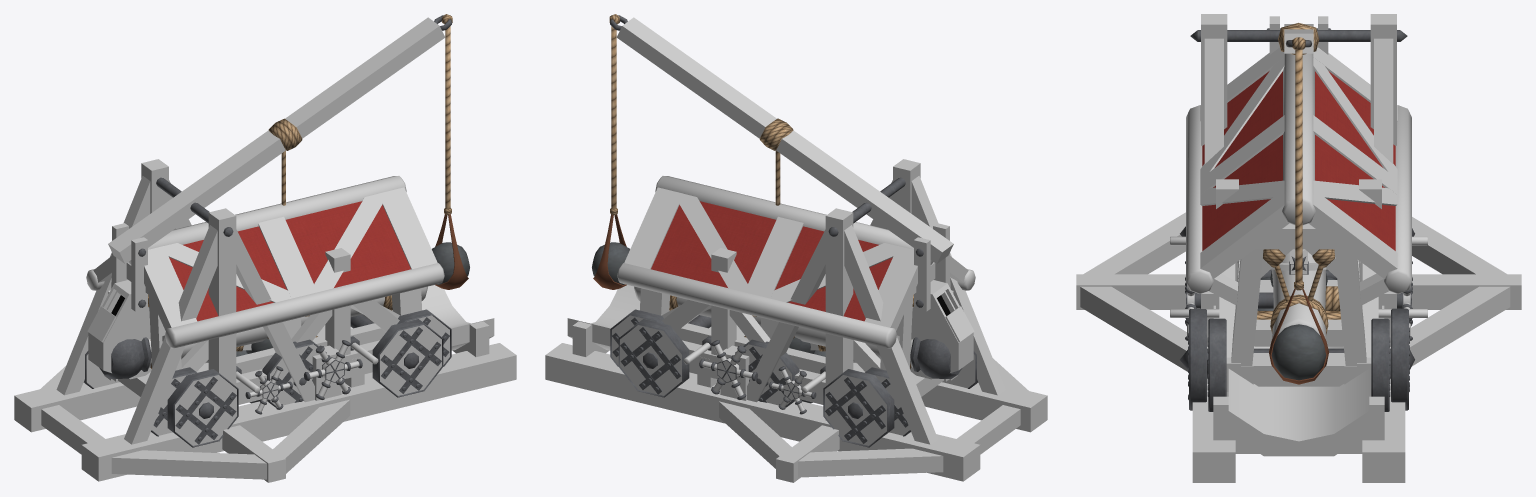
File: siege.fbx
3 renders of one model, left to right at view 1: azimuth 30°, elevation 25°; view 2: azimuth 150°, elevation 25°; view 3: azimuth 270°, elevation 25°, orthographic. The views are drawn at different scales.
Visible parts, largest first — view 1: body, launcher, frame.001, log, cloth, wheels.001, frame, wheels, canal, ram, LOD_01_Catapult, LOD_01_Trebuchet (+3 smaller); view 2: body, launcher, frame.001, log, cloth, wheels.001, frame, wheels, canal, ram, LOD_01_Catapult, LOD_01_Trebuchet (+3 smaller); view 3: body, frame.001, canal, cloth, log, launcher, wheels.001, wheels, frame, ram, rope, axel.001 (+2 smaller).
Boxes of the visible parts, x1,y1,x2,y2 form: body: (14, 159, 516, 482); launcher: (87, 14, 469, 379); frame.001: (93, 187, 437, 396); log: (86, 176, 444, 348); cloth: (169, 201, 410, 321); wheels.001: (167, 319, 443, 447); frame: (104, 248, 399, 404); wheels: (83, 309, 451, 436); canal: (344, 285, 494, 387); ram: (99, 286, 427, 378); LOD_01_Catapult: (179, 330, 438, 441); LOD_01_Trebuchet: (304, 340, 362, 399); body: (545, 159, 1047, 482); launcher: (592, 14, 974, 379); frame.001: (624, 187, 968, 396); log: (617, 176, 975, 348); cloth: (651, 201, 892, 321); wheels.001: (618, 319, 894, 447); frame: (662, 248, 957, 404); wheels: (610, 309, 978, 436); canal: (567, 285, 717, 387); ram: (634, 286, 962, 378); LOD_01_Catapult: (623, 330, 882, 440); LOD_01_Trebuchet: (699, 340, 757, 399); body: (1076, 14, 1521, 482); frame.001: (1200, 45, 1397, 386); canal: (1213, 346, 1384, 456); cloth: (1202, 71, 1395, 250); log: (1186, 53, 1411, 293); launcher: (1196, 16, 1401, 384); wheels.001: (1189, 308, 1408, 410); wheels: (1208, 318, 1389, 411); frame: (1213, 179, 1384, 391); ram: (1271, 249, 1326, 340); rope: (1263, 249, 1334, 334); axel.001: (1190, 30, 1407, 41).
Bounding box in the file's own units: 619 × 658 × 845.
